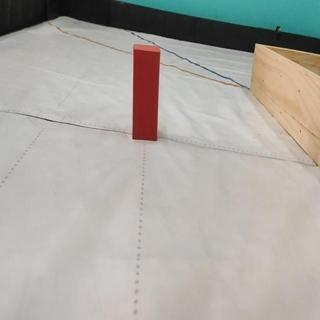redbox: (133, 43, 160, 142)
